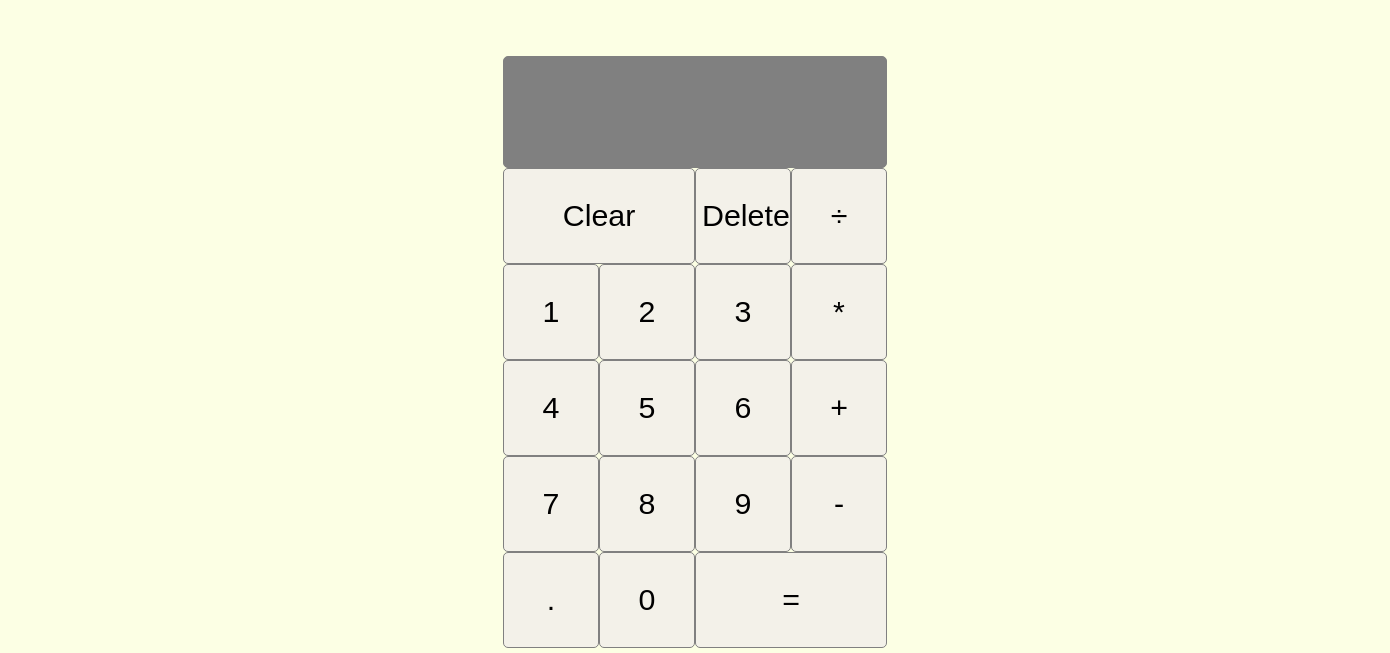
Test: number can minus another number and display the total › can minus two separate numbers together
The width and height of the screenshot is (1390, 653).
Click the button "9": [743, 504] box [695,456,791,552]
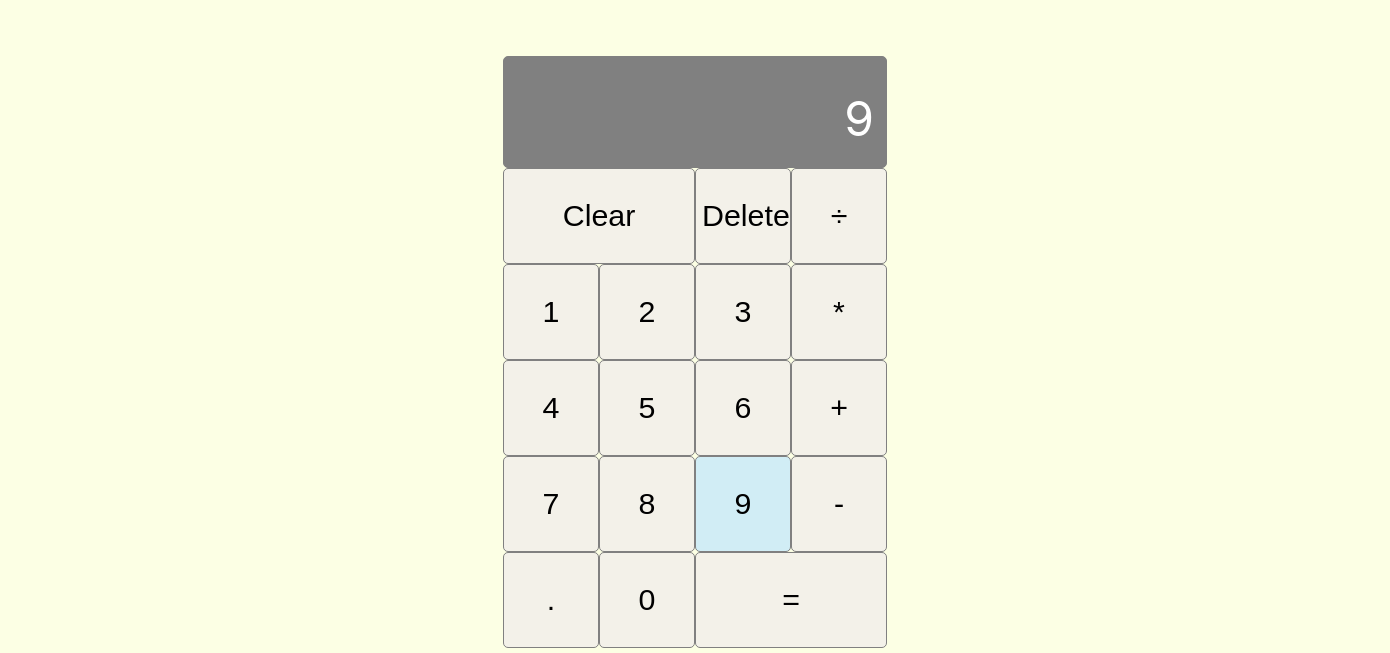
Click the button "-": [839, 504] box [791,456,887,552]
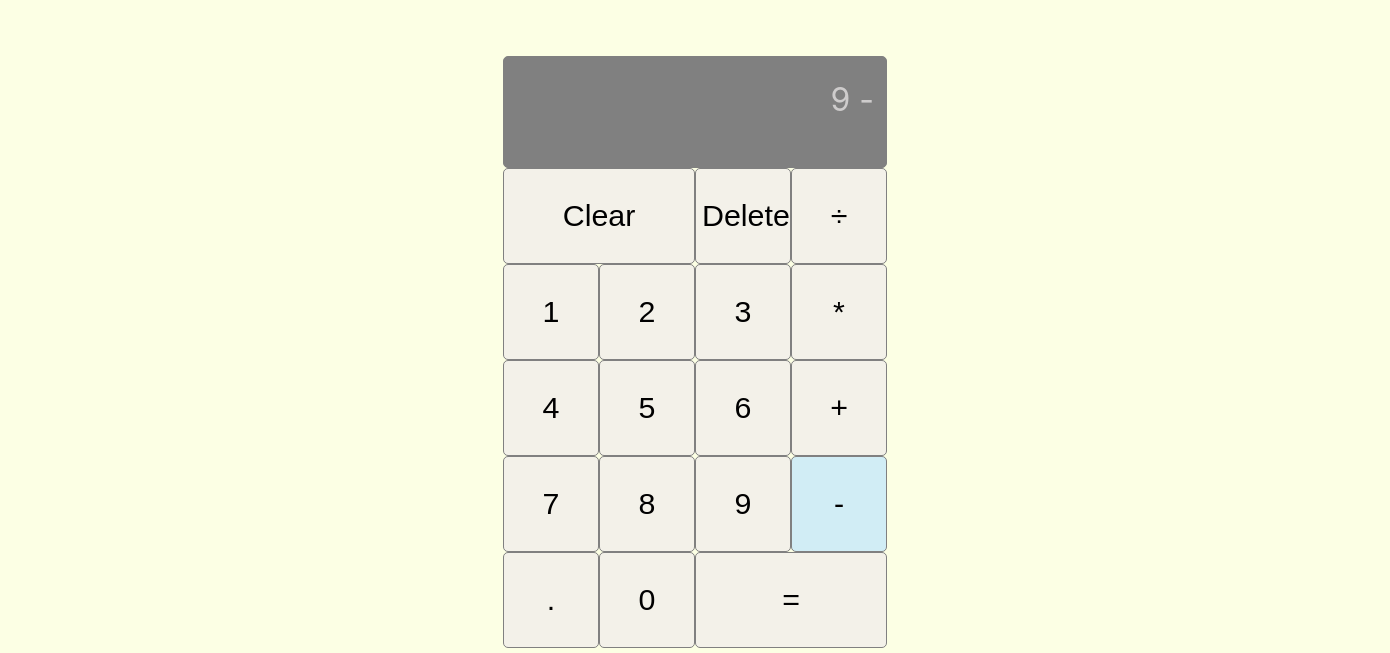
Click the button "5": [647, 408] box [599,360,695,456]
(page scrolled)
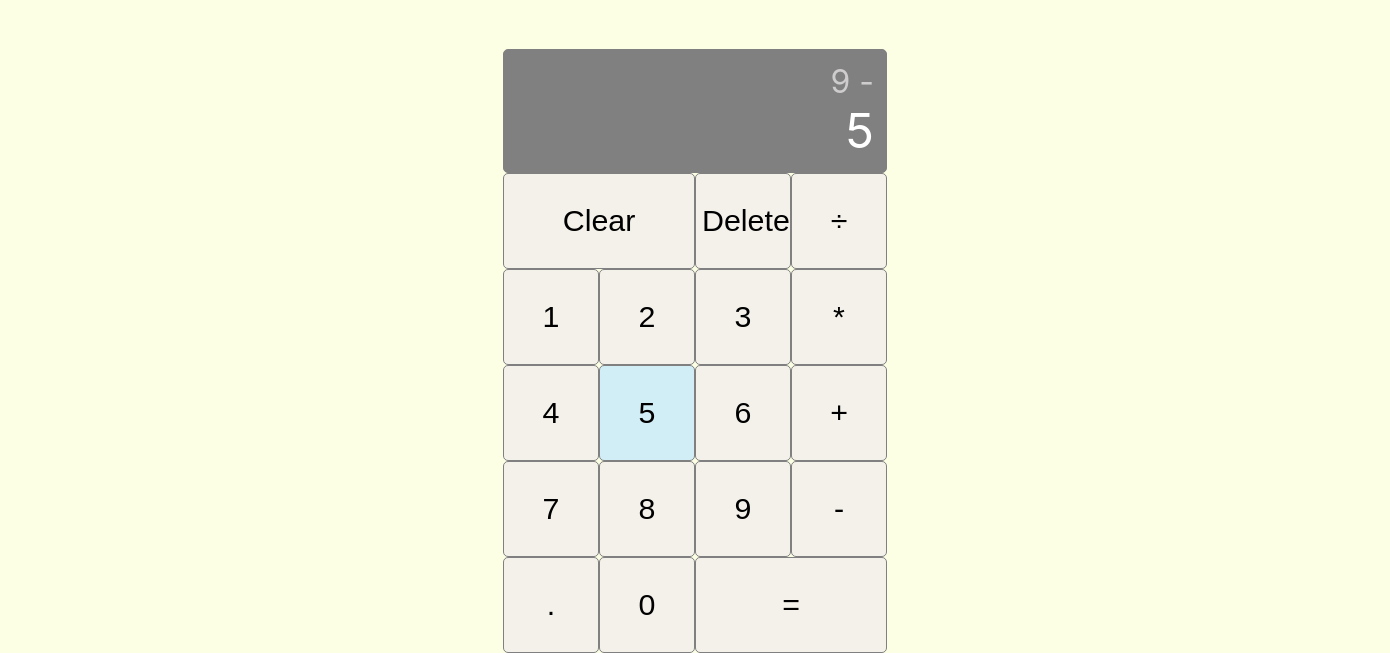
Click the button "=": [791, 605] box [695,557,887,652]
(page scrolled)
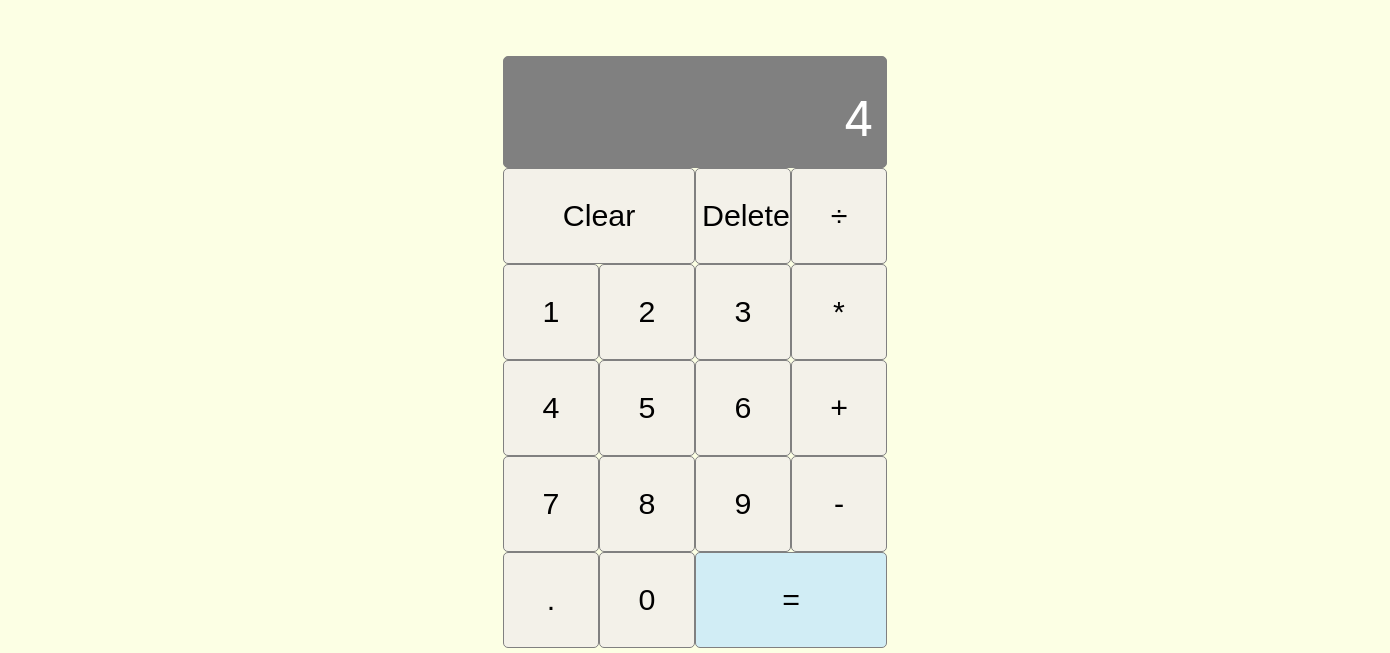
Expected: the text with class "current-sum" reads "4", [843,89,874,148]
